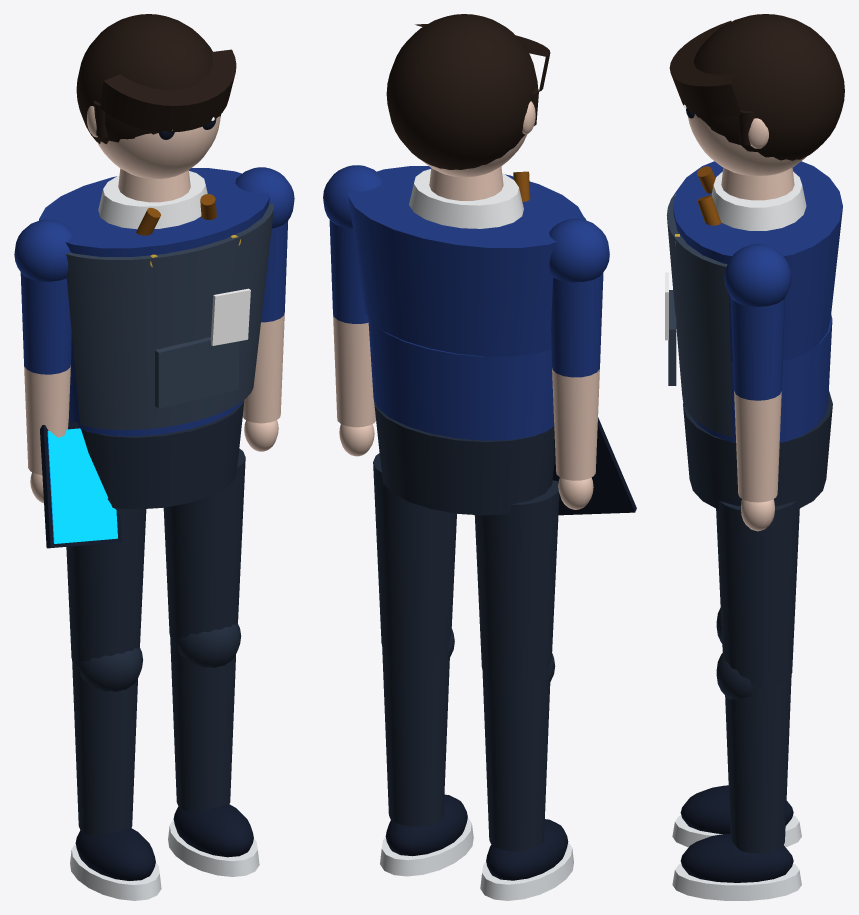
The model's file is ShiftSync_Employee.glb.
The picture shows the model from 3 angles, left to right: view 1: azimuth 30°, elevation 25°; view 2: azimuth 150°, elevation 25°; view 3: azimuth 270°, elevation 25°; orthographic projection. The views are drawn at different scales.
Visible parts, largest first — view 1: Apron_Bib, Pelvis, RightThigh, LeftThigh, Hair_Crown, Torso_Chest, RightCalf, LeftCalf, Hair_Bangs, Manager_Tablet_Screen, Apron_Pocket, LeftUpperArm (+18 smaller); view 2: Torso_Chest, Hair_Crown, Torso_Waist, LeftThigh, Pelvis, RightThigh, LeftCalf, RightCalf, LeftUpperArm, LeftForearm, RightForearm, Shirt_Collar (+12 smaller); view 3: Hair_Crown, RightThigh, Torso_Chest, RightCalf, Apron_Bib, Pelvis, RightUpperArm, Torso_Waist, RightForearm, RightShoe_Upper, RightShoulder_Cap, Hair_Bangs (+12 smaller).
Part boxes in pixels (bbox=[...]): Apron_Bib: bbox=[66, 203, 274, 429]; Pelvis: bbox=[81, 400, 244, 509]; RightThigh: bbox=[163, 448, 245, 642]; LeftThigh: bbox=[66, 498, 146, 666]; Hair_Crown: bbox=[76, 14, 221, 144]; Torso_Chest: bbox=[39, 168, 269, 347]; RightCalf: bbox=[170, 636, 235, 812]; LeftCalf: bbox=[72, 660, 137, 836]; Hair_Bangs: bbox=[100, 49, 236, 132]; Manager_Tablet_Screen: bbox=[47, 428, 117, 543]; Apron_Pocket: bbox=[155, 336, 238, 408]; LeftUpperArm: bbox=[20, 272, 71, 374]; Torso_Chest: bbox=[348, 166, 584, 356]; Hair_Crown: bbox=[386, 14, 537, 169]; Torso_Waist: bbox=[368, 317, 554, 440]; LeftThigh: bbox=[474, 480, 559, 682]; Pelvis: bbox=[374, 400, 554, 515]; RightThigh: bbox=[373, 453, 456, 657]; LeftCalf: bbox=[482, 669, 550, 851]; RightCalf: bbox=[382, 645, 449, 826]; LeftUpperArm: bbox=[551, 273, 603, 377]; LeftForearm: bbox=[552, 368, 599, 480]; RightForearm: bbox=[333, 314, 375, 427]; Shirt_Collar: bbox=[409, 169, 523, 228]; Hair_Crown: bbox=[693, 14, 844, 160]; RightThigh: bbox=[716, 501, 799, 686]; Torso_Chest: bbox=[672, 161, 842, 361]; RightCalf: bbox=[725, 674, 791, 853]; Apron_Bib: bbox=[666, 192, 732, 436]; Pelvis: bbox=[683, 391, 832, 509]; RightUpperArm: bbox=[730, 297, 785, 400]; Torso_Waist: bbox=[691, 314, 832, 442]; RightForearm: bbox=[734, 391, 781, 502]; RightShoe_Upper: bbox=[680, 833, 793, 882]; RightShoulder_Cap: bbox=[724, 244, 791, 306]; Hair_Bangs: bbox=[669, 20, 741, 116].
Size of the model in its own units: 0.611 by 1.79 by 0.3466.
